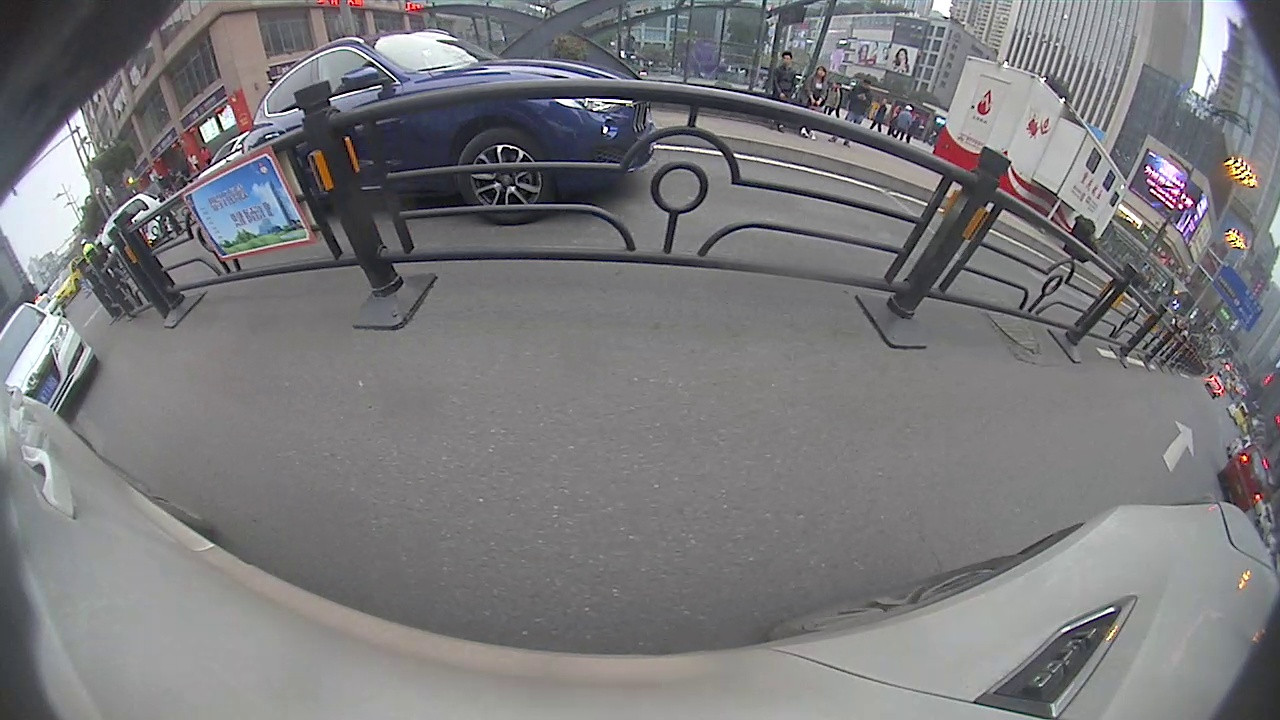car: (239, 27, 653, 230), (2, 304, 98, 414), (1218, 444, 1273, 513)
front: (458, 130, 549, 223)
